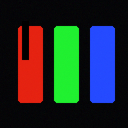4 line_v: (22, 21, 28, 59)
